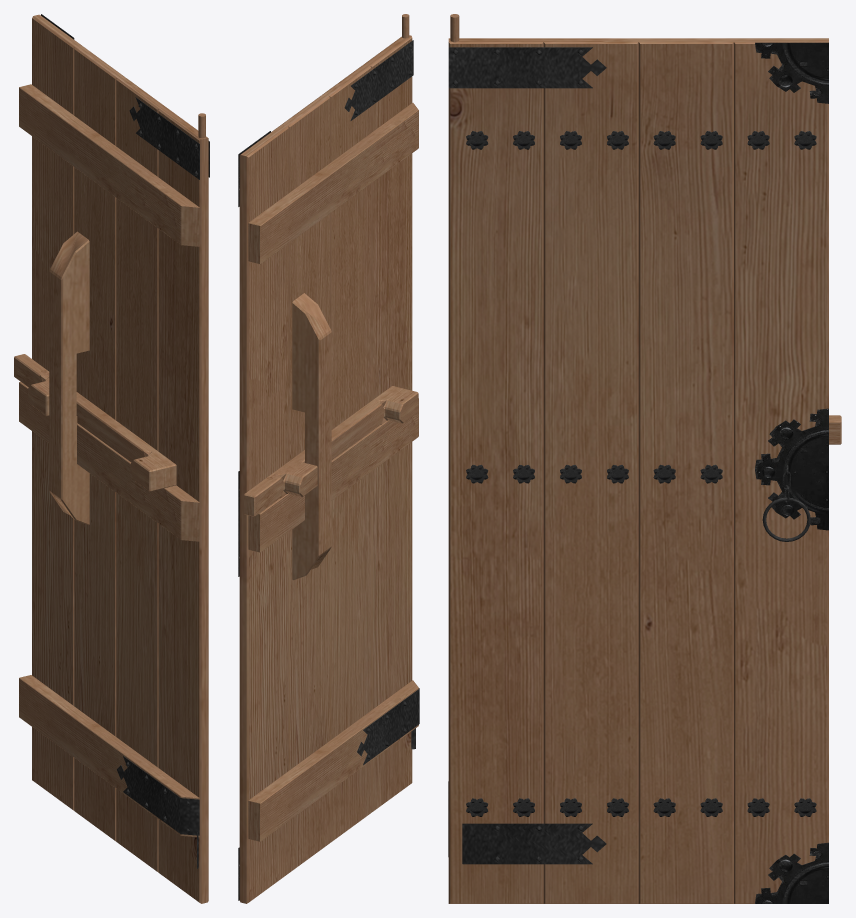
The model's file is SM_Gyedong_Door_08C.fbx.
The picture shows the model from 3 angles, left to right: view 1: azimuth 30°, elevation 25°; view 2: azimuth 150°, elevation 25°; view 3: azimuth 270°, elevation 25°; orthographic projection. The views are drawn at different scales.
Visible parts, largest first — view 1: SM_Gyedong_Door_08C; view 2: SM_Gyedong_Door_08C; view 3: SM_Gyedong_Door_08C.
Boxes of the visible parts, bbox=[...] form: SM_Gyedong_Door_08C: bbox=[14, 14, 209, 903]; SM_Gyedong_Door_08C: bbox=[238, 14, 419, 903]; SM_Gyedong_Door_08C: bbox=[448, 14, 841, 903].
Bounding box in the file's own units: 14.31 × 230 × 92.45.
